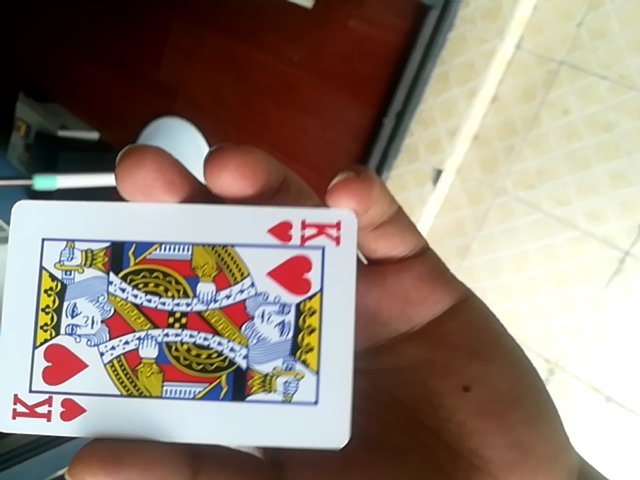hx k: (3, 195, 360, 456)
